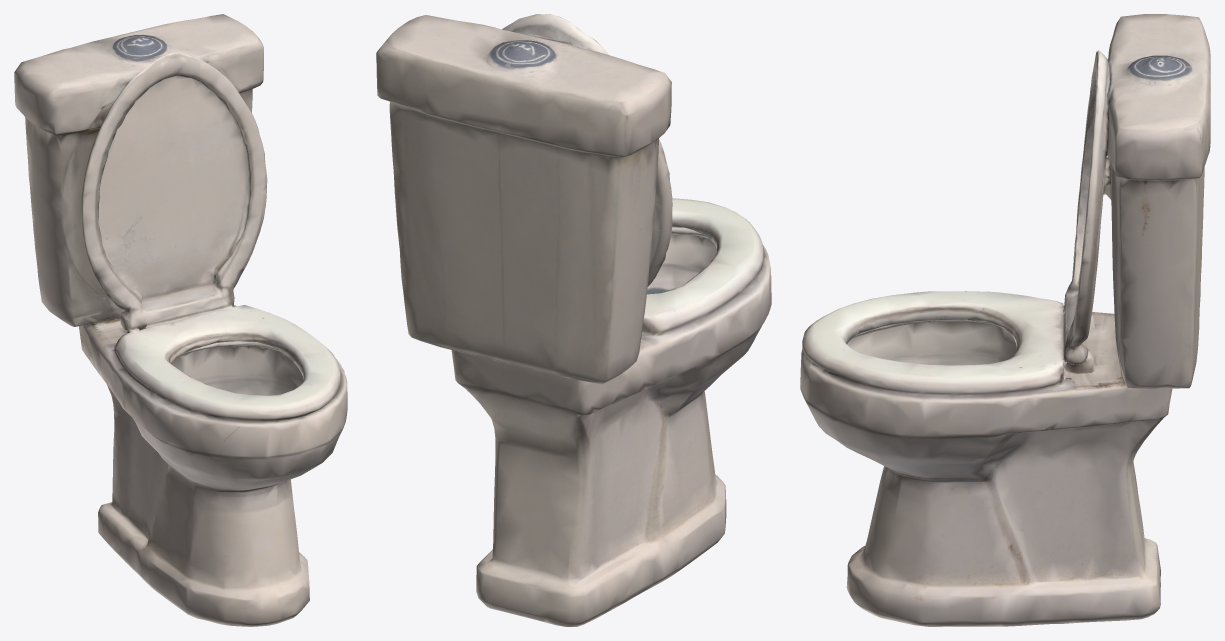
Rendered from Meshy_AI_Aqua_Throne_0124081109_texture.glb.
3 views of the same model, side by side, from view 1: azimuth 30°, elevation 25°; view 2: azimuth 150°, elevation 25°; view 3: azimuth 270°, elevation 25° (orthographic). The views are drawn at different scales.
Bounding box in the file's own units: 0.9527 × 2 × 1.37.
Materials: 1 (1 with a texture image).
